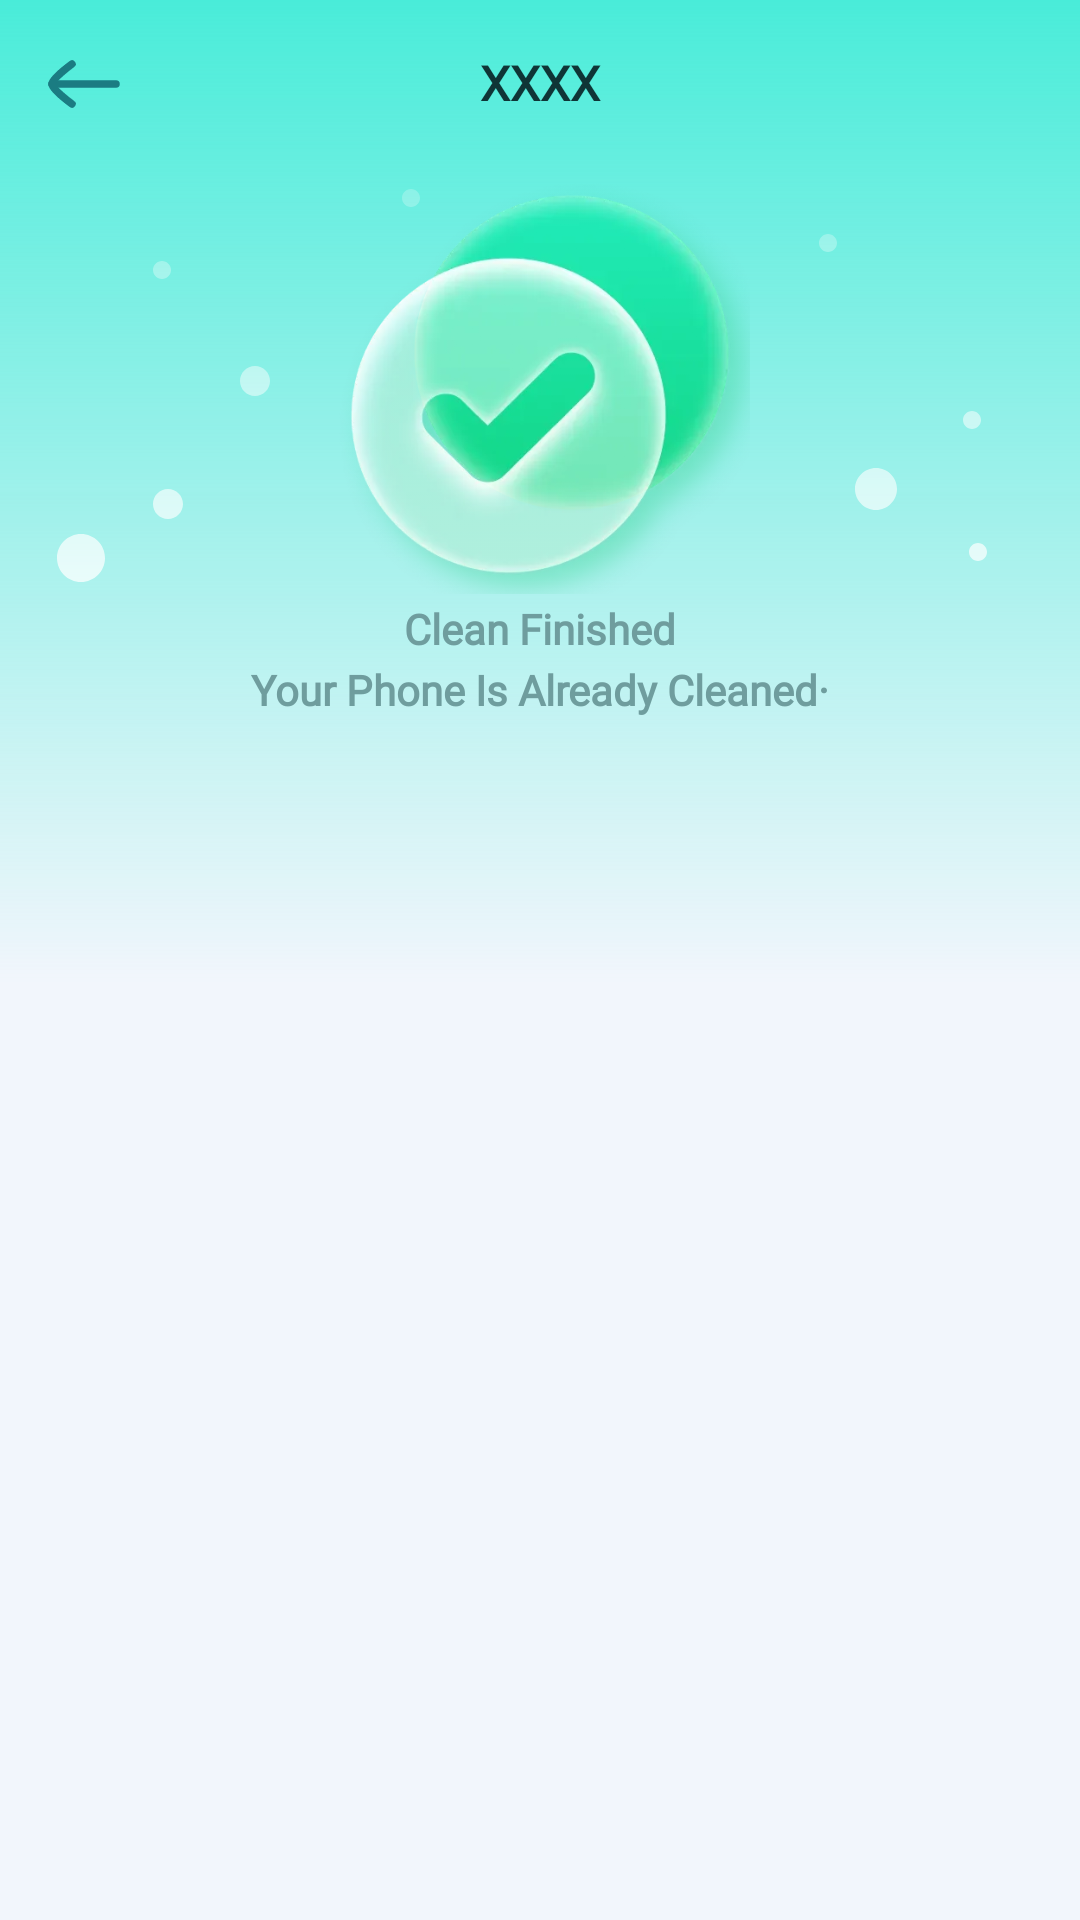

Screen size 1080px x 1920px. Icon name, then its center in pixels as (x,y):
back: (84,72)
